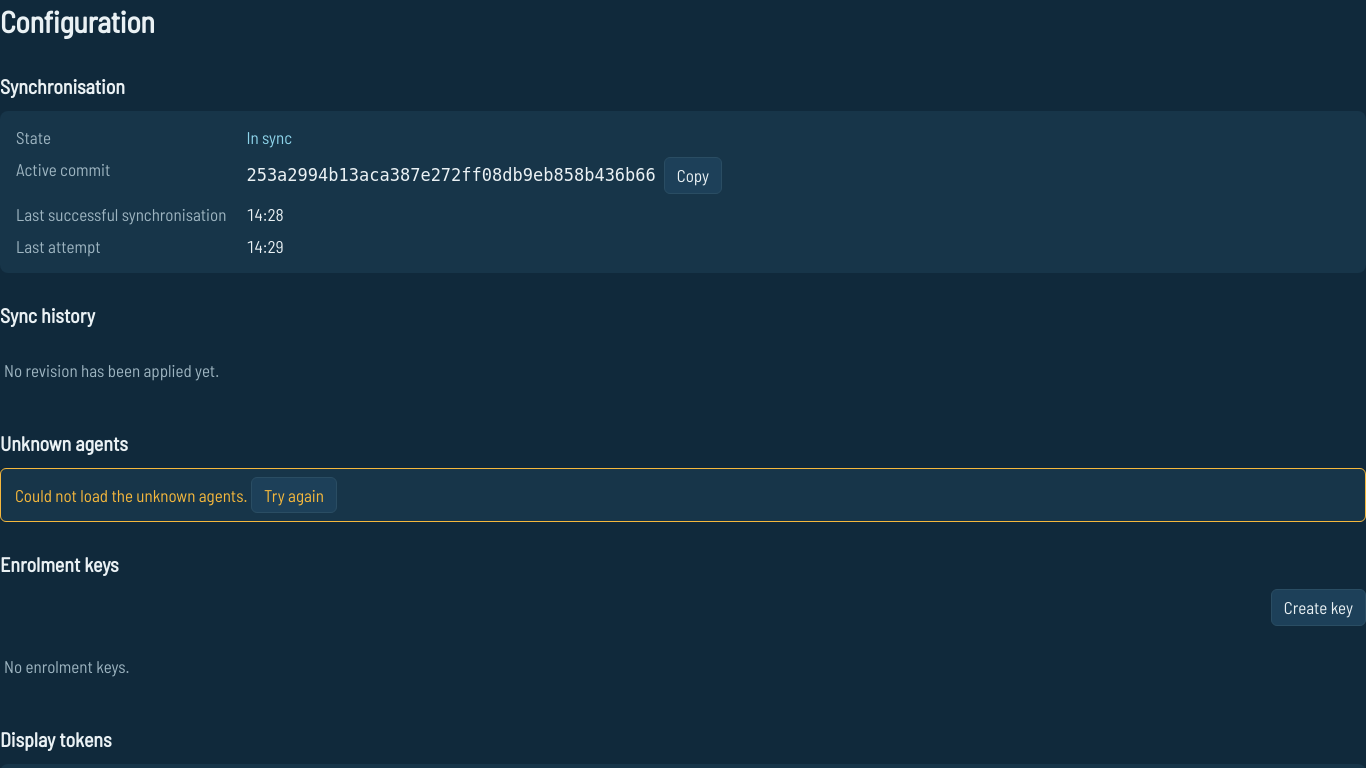
Test: page › keeps the other sections when one fails, and retries only that one
Expected: the text "Could not load the unknown agents." is shown, top-left (15, 485), bottom-right (248, 505)
Expected: the text "No enrolment keys." is shown, top-left (4, 656), bottom-right (130, 676)
Click the button "Try again". click: (294, 495)
box: top-left (251, 477), bottom-right (337, 513)
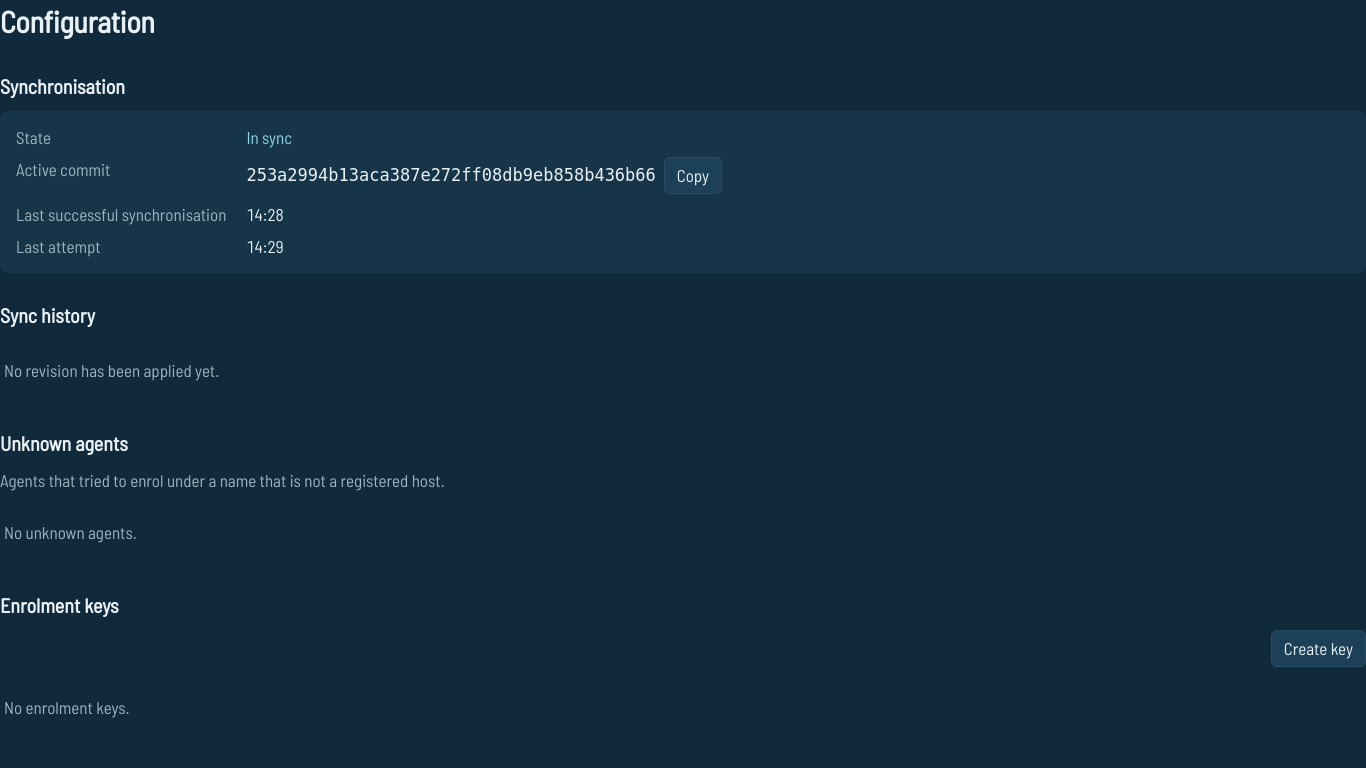
Now the text "No unknown agents." is shown, box top-left (4, 522), bottom-right (137, 542)
Now the text "Could not load the unknown agents." is gone
